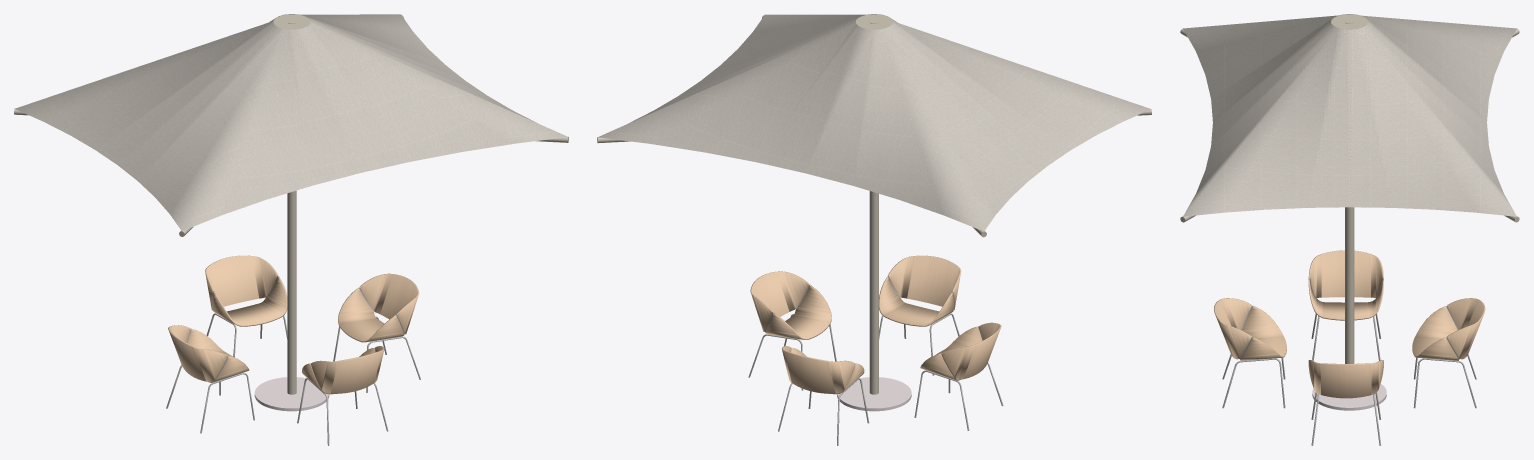
Rendered from UMBRELLA 4.glb.
The picture shows the model from 3 angles, left to right: view 1: azimuth 30°, elevation 25°; view 2: azimuth 150°, elevation 25°; view 3: azimuth 270°, elevation 25°; orthographic projection.
Parts seen in each view (by area): view 1: CANOPY, CHAIR 1 BACK REST, POLES, CHAIR 4 BACK REST, CHAIR 2 BACK REST, CHAIR 3 BACK REST; view 2: CANOPY, CHAIR 3 BACK REST, POLES, CHAIR 4 BACK REST, CHAIR 2 BACK REST, CHAIR 1 BACK REST; view 3: CANOPY, CHAIR 2 BACK REST, CHAIR 1 BACK REST, CHAIR 3 BACK REST, POLES, CHAIR 4 BACK REST, CHAIR 3 LEGS, CHAIR 1 LEGS, CHAIR 4 LEGS.
Boxes of the visible parts, x1,y1,x2,y2 form: CANOPY: (14,14,567,230); CHAIR 1 BACK REST: (205,255,287,326); POLES: (14,14,568,411); CHAIR 4 BACK REST: (338,273,419,342); CHAIR 2 BACK REST: (168,325,249,382); CHAIR 3 BACK REST: (302,346,384,394); CANOPY: (598,14,1150,231); CHAIR 3 BACK REST: (879,255,961,326); POLES: (597,14,1151,411); CHAIR 4 BACK REST: (750,271,831,339); CHAIR 2 BACK REST: (920,322,1001,380); CHAIR 1 BACK REST: (782,346,864,394); CANOPY: (1183,14,1516,216); CHAIR 2 BACK REST: (1308,250,1383,320); CHAIR 1 BACK REST: (1412,298,1485,360); CHAIR 3 BACK REST: (1214,298,1286,360); POLES: (1180,14,1519,410); CHAIR 4 BACK REST: (1308,360,1383,398); CHAIR 3 LEGS: (1222,354,1285,408); CHAIR 1 LEGS: (1413,354,1476,408); CHAIR 4 LEGS: (1311,392,1381,445).
Size of the model in its own units: 3.69 by 3.38 by 2.78.
8 materials, 4 textured.
